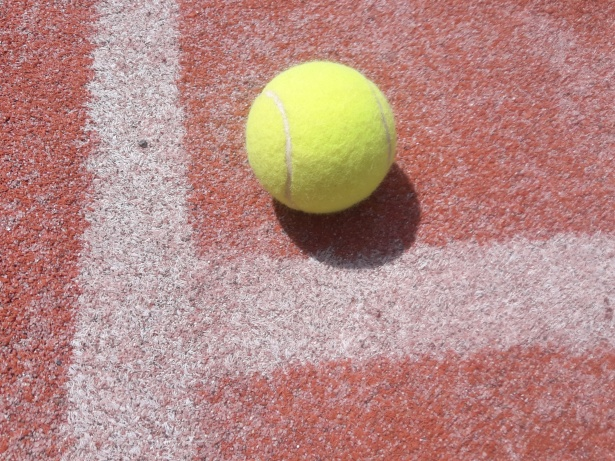tennis_ball: (245, 60, 401, 218)
